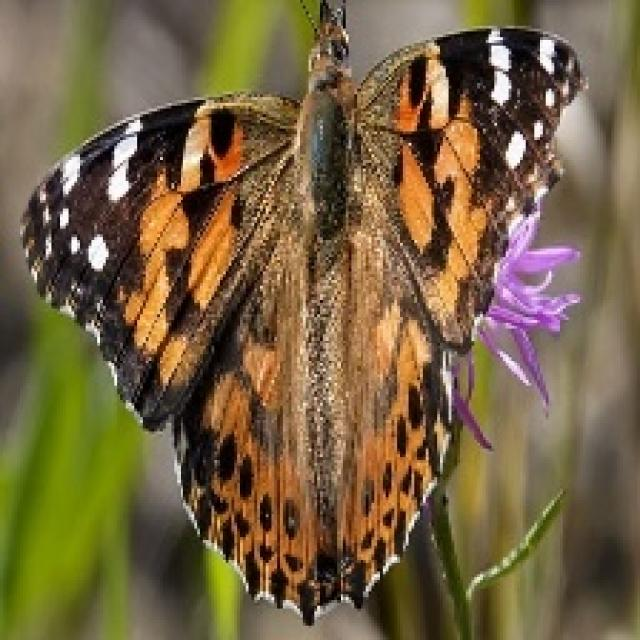butterfly: (17, 0, 586, 626)
